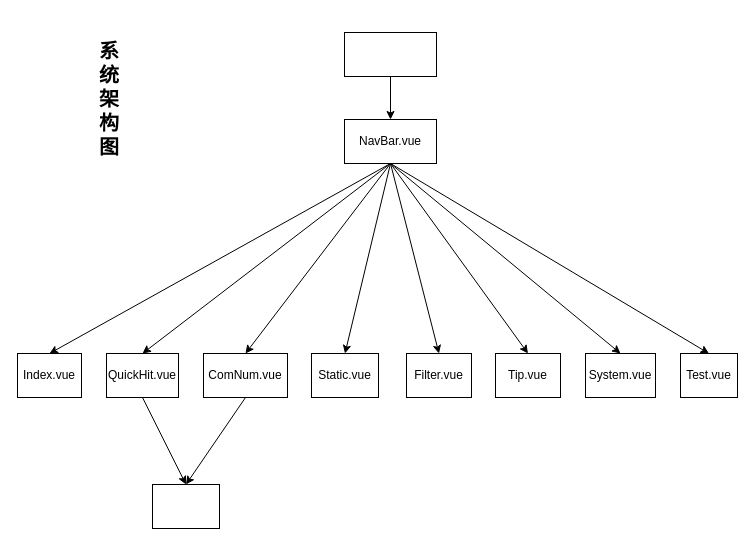
Some shapes in this 755 by 546 pixel diagram are drawn without their labels. Each missing label, with the centre of its shape:
App.vue: pixel 390 54
Detail.vue: pixel 186 506
